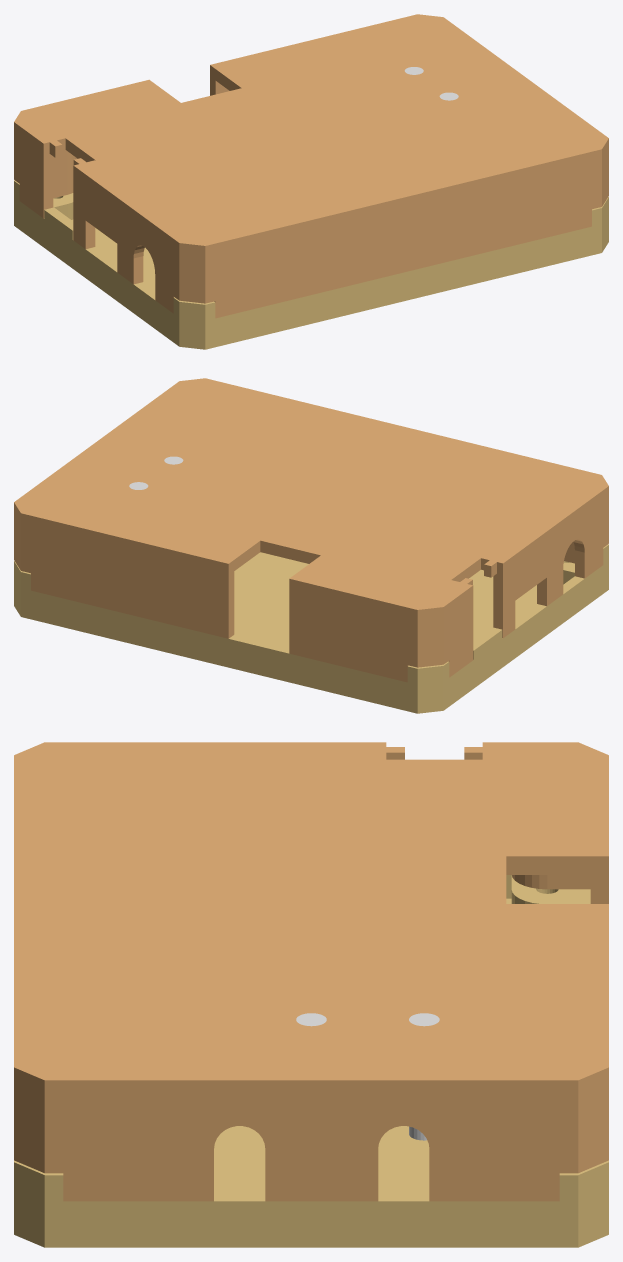
File: ESPMiniDrop_Enclosure_Assembly.gltf
3 renders of one model, top to bottom at view 1: azimuth 30°, elevation 25°; view 2: azimuth 150°, elevation 25°; view 3: azimuth 270°, elevation 25°, orthographic. The views are drawn at different scales.
Visible parts, largest first — view 1: Z_UP; view 2: Z_UP; view 3: Z_UP.
Part boxes in pixels (x1,y1,x2,y2): Z_UP: (14,14,608,349); Z_UP: (14,378,608,713); Z_UP: (14,742,608,1247).
Bounding box in the file's own units: 0.078 × 0.018 × 0.058.
